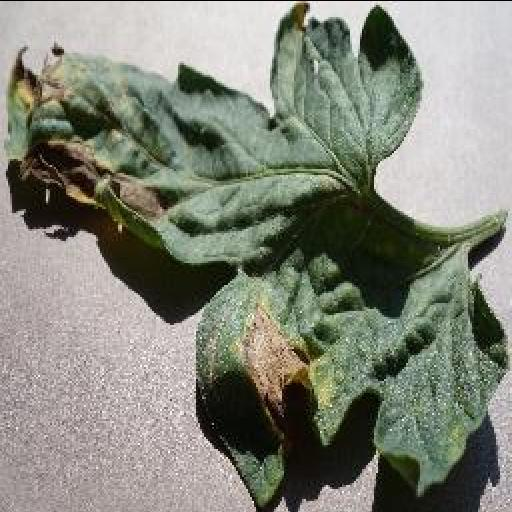disease_tomato: (6, 0, 512, 512)
